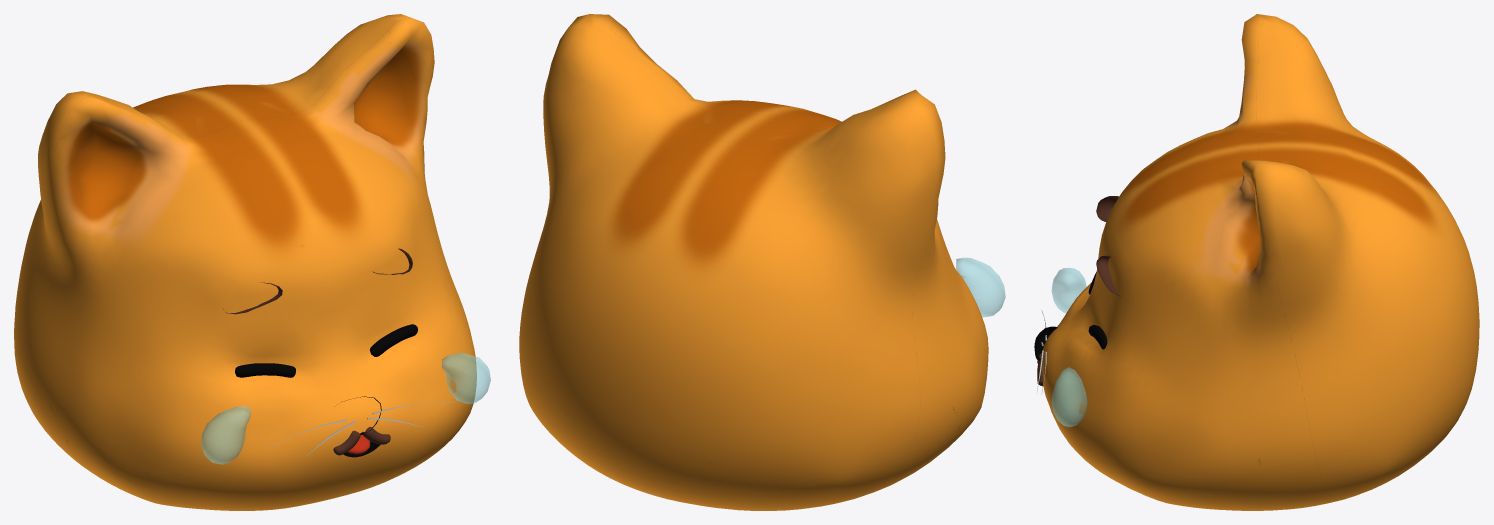
Rendered from loughingface.glb.
3 renders of one model, left to right at view 1: azimuth 30°, elevation 25°; view 2: azimuth 150°, elevation 25°; view 3: azimuth 270°, elevation 25°, orthographic. The views are drawn at different scales.
Parts seen in each view (by area): view 1: tear-of-joy-col; view 2: tear-of-joy-col; view 3: tear-of-joy-col.
Part boxes in pixels (x1=…): tear-of-joy-col: x1=14, y1=14, x2=490, y2=510; tear-of-joy-col: x1=519, y1=14, x2=1005, y2=510; tear-of-joy-col: x1=1034, y1=14, x2=1479, y2=510.
Size of the model in its own units: 1.85 by 1.84 by 1.95.
Materials: 6 (1 with a texture image).
